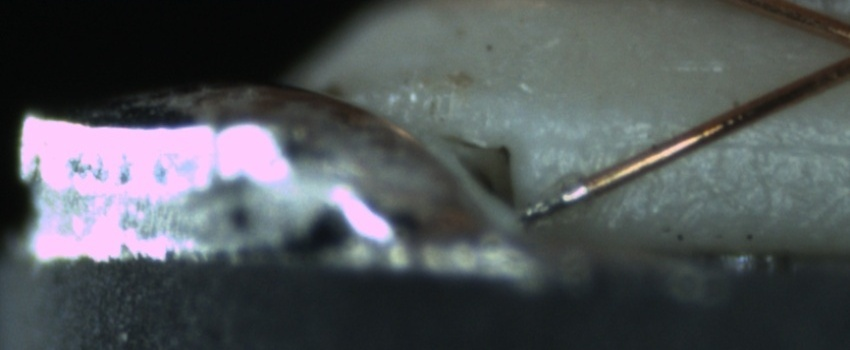CL: (830, 21, 850, 78)
DL: (552, 114, 850, 172)
TS: (517, 181, 586, 219)
TTCW: (517, 168, 599, 221)
